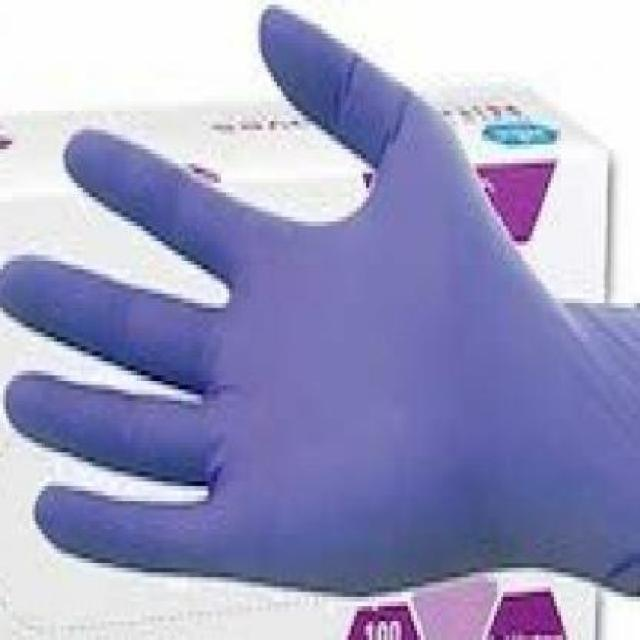glove_hand: (0, 4, 637, 636)
